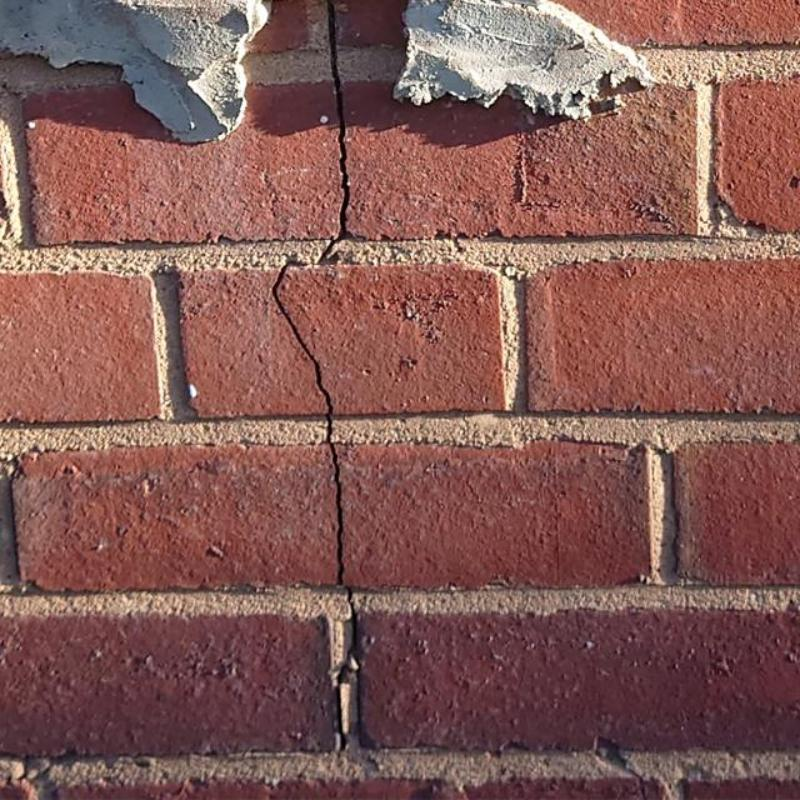pothole: (272, 259, 360, 752), (319, 0, 350, 262)
